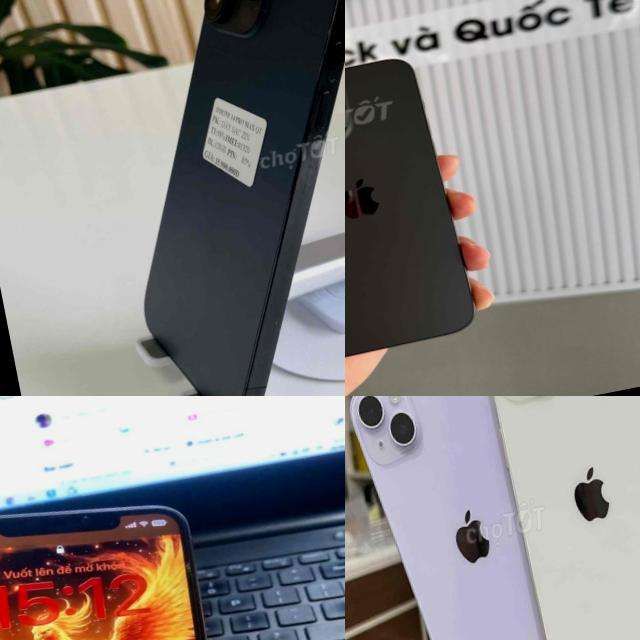gen_11: (0, 458, 287, 640)
gen_14: (53, 0, 345, 396), (473, 396, 640, 640)
gen_15: (345, 35, 508, 390)
